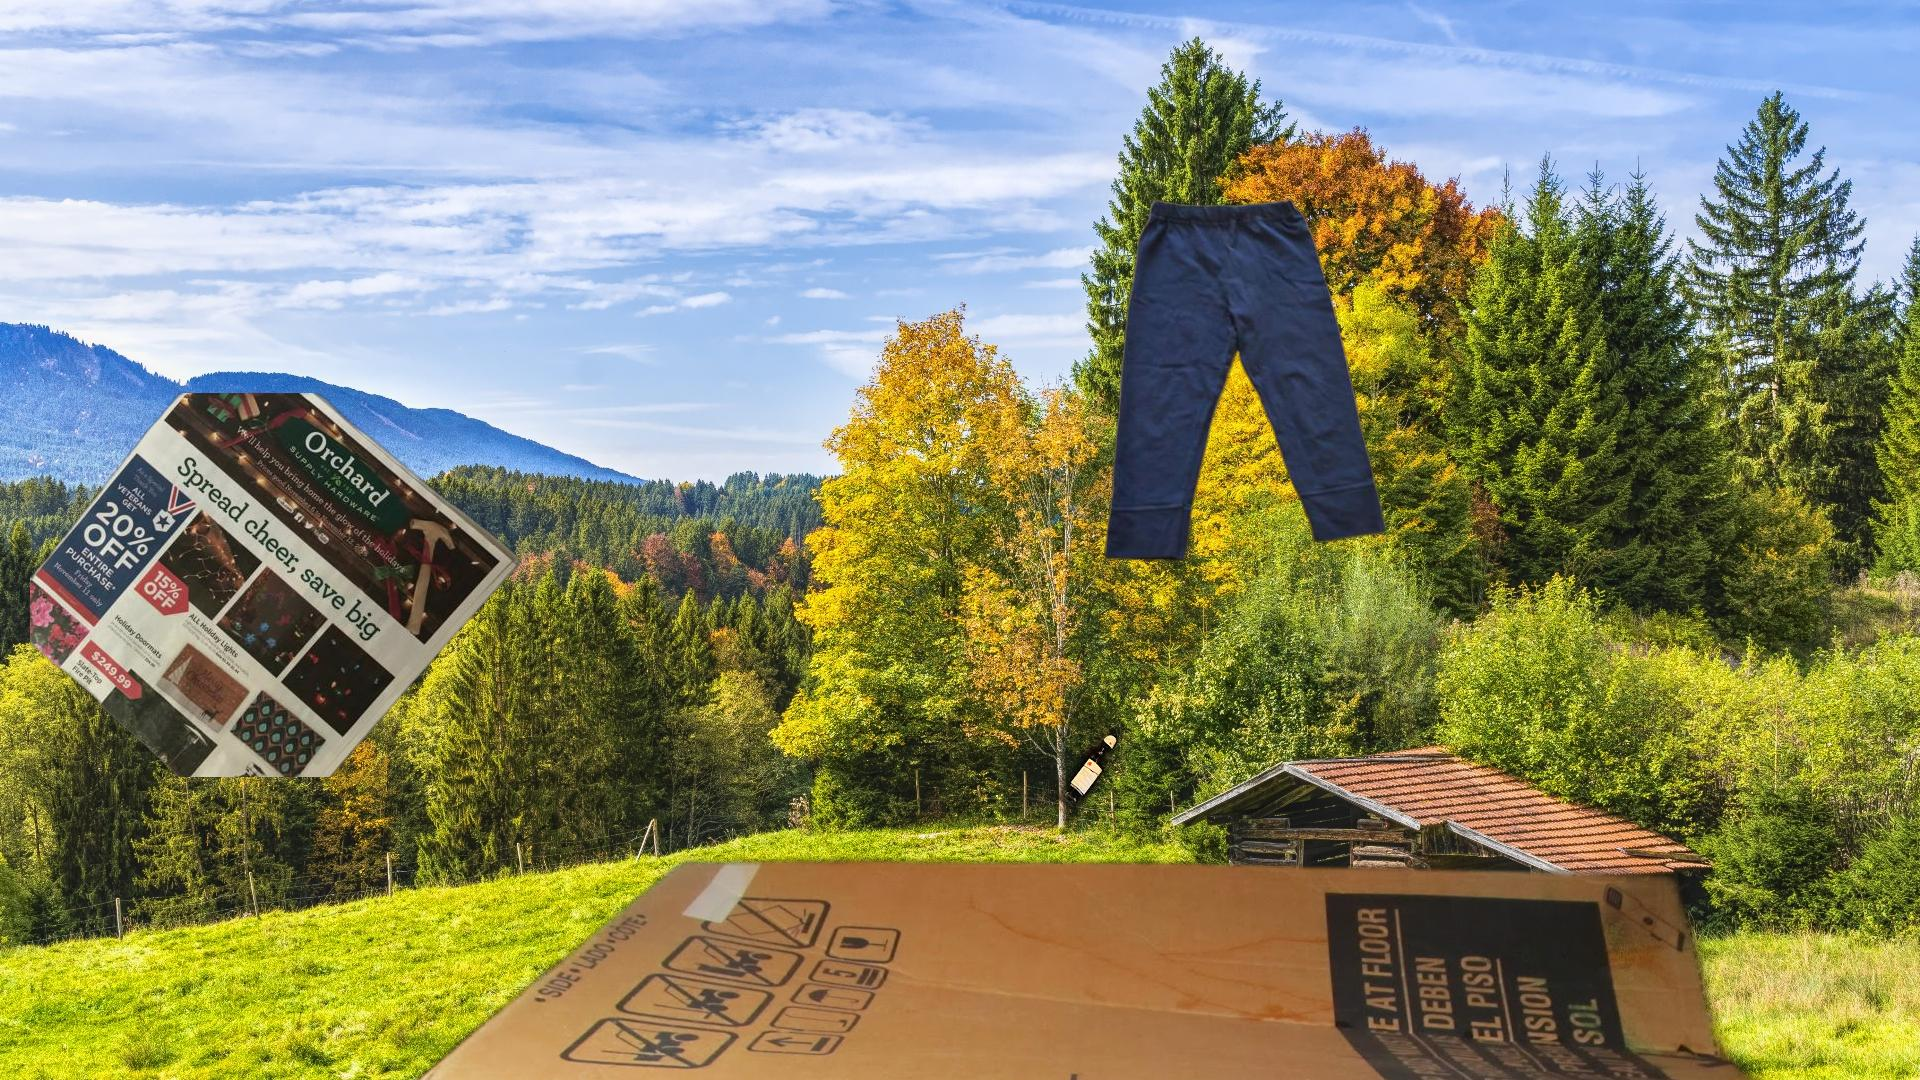clothes: (1101, 195, 1390, 566)
glass: (969, 690, 1135, 814)
paper: (30, 393, 524, 777)
trashbox-cardboard: (392, 848, 1920, 1080)
